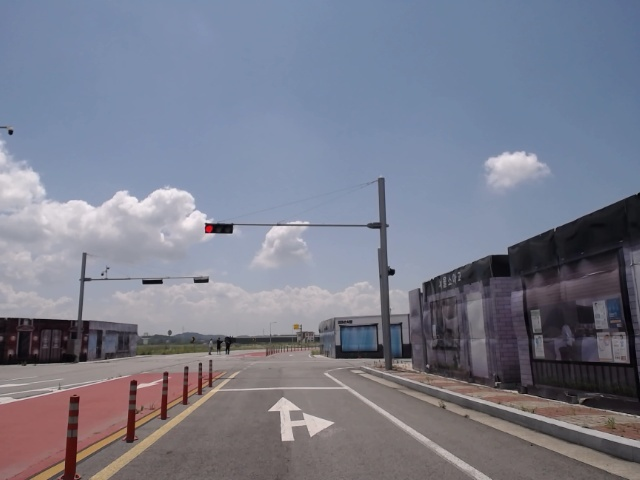red_3: (204, 224, 235, 234)
